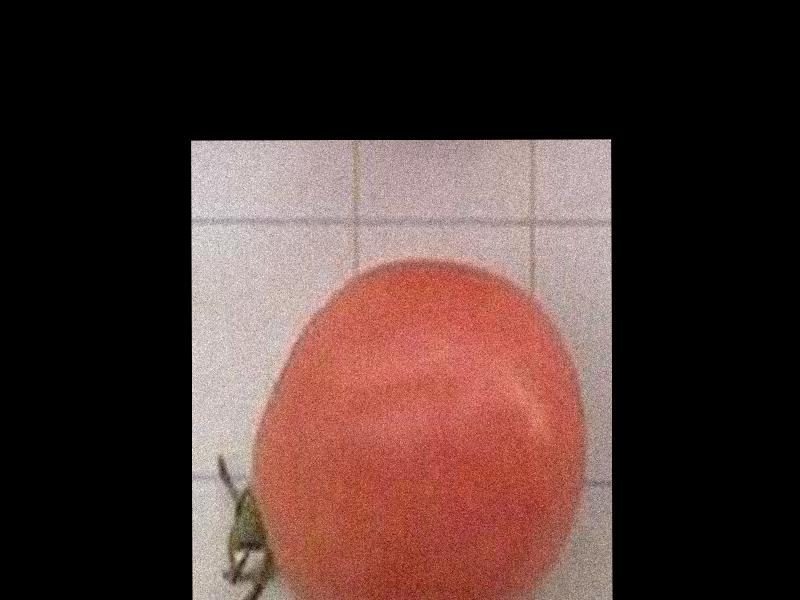Tomato: (251, 260, 586, 600)
